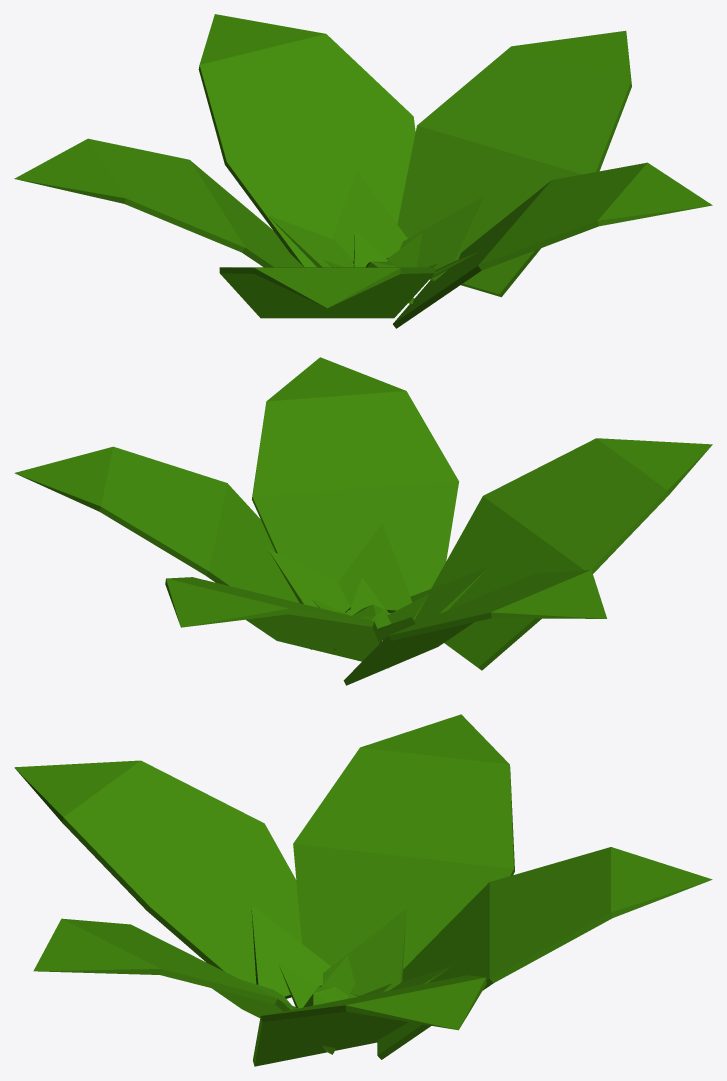
Rendered from Plant_a_01.fbx.
3 renders of one model, top to bottom at view 1: azimuth 30°, elevation 25°; view 2: azimuth 150°, elevation 25°; view 3: azimuth 270°, elevation 25°, orthographic. The views are drawn at different scales.
Parts seen in each view (by area): view 1: Plant_a_01_LOD0; view 2: Plant_a_01_LOD0; view 3: Plant_a_01_LOD0.
Part boxes in pixels (x1=…): Plant_a_01_LOD0: x1=14, y1=14, x2=712, y2=328; Plant_a_01_LOD0: x1=14, y1=357, x2=712, y2=685; Plant_a_01_LOD0: x1=14, y1=714, x2=712, y2=1066.
Size of what is drawn, in the model's own units: 23.01 by 5.12 by 21.5.
